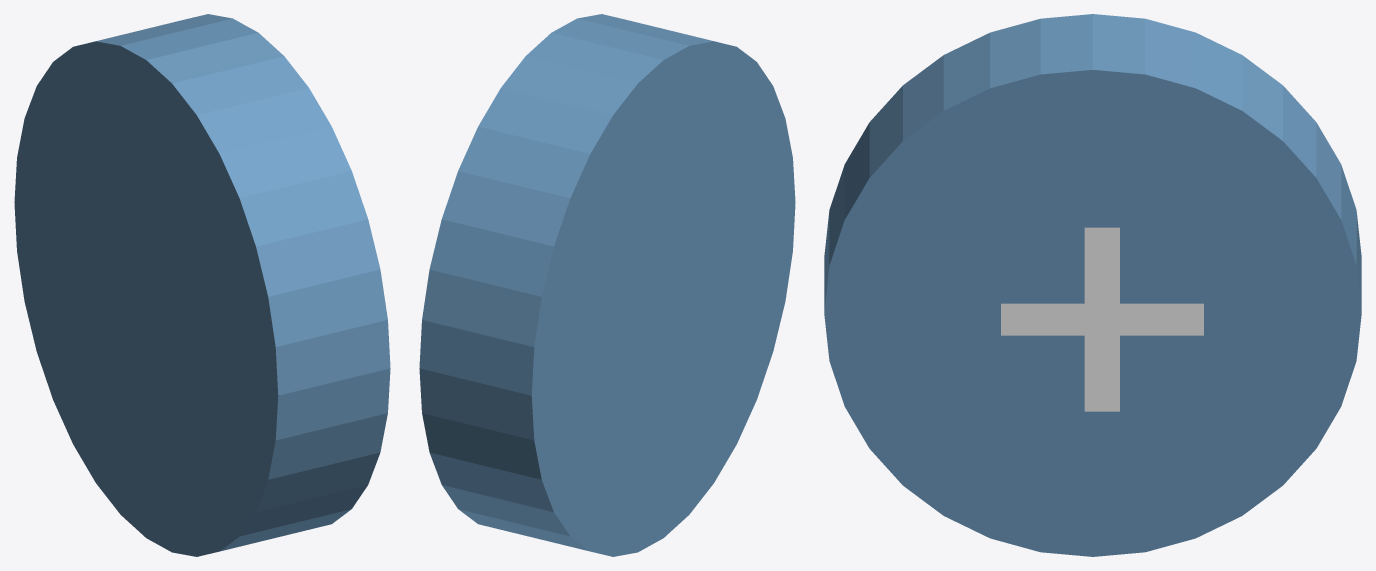
File: botonmas.glb
3 renders of one model, left to right at view 1: azimuth 30°, elevation 25°; view 2: azimuth 150°, elevation 25°; view 3: azimuth 270°, elevation 25°, orthographic.
Parts seen in each view (by area): view 1: Cilindro; view 2: Cilindro; view 3: Cilindro, Texto.002.
Part boxes in pixels (box(x1,y1,x2,y2)): Cilindro: box(14, 14, 390, 556); Cilindro: box(419, 14, 795, 556); Cilindro: box(824, 14, 1361, 556); Texto.002: box(1001, 227, 1203, 411).
Bounding box in the file's own units: 0.0275 × 0.1 × 0.1.
